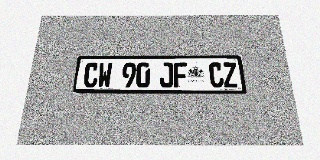0: (136, 62, 150, 88)
9: (122, 62, 136, 88)
C: (83, 62, 99, 88), (209, 62, 224, 88)
F: (173, 62, 188, 88)
J: (160, 62, 173, 88)
W: (97, 62, 113, 88)
Z: (222, 62, 239, 88)
